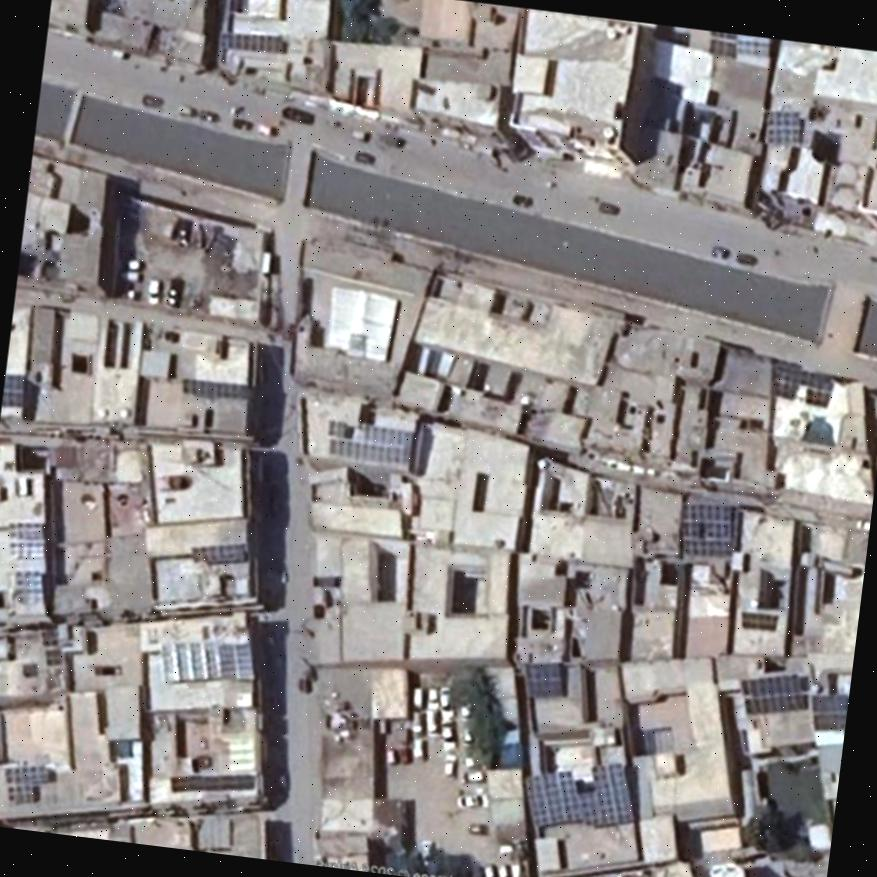Solarpanel: (525, 763, 635, 837), (162, 642, 253, 682), (329, 420, 413, 461), (679, 505, 734, 553), (742, 676, 805, 713), (3, 763, 51, 802), (181, 376, 251, 397), (170, 774, 253, 790), (811, 694, 848, 729), (8, 522, 45, 557), (523, 662, 563, 694), (771, 367, 828, 389), (766, 109, 800, 140), (191, 542, 244, 560), (221, 34, 280, 50), (13, 570, 43, 597), (2, 372, 24, 406), (709, 30, 737, 55), (741, 612, 774, 627)
